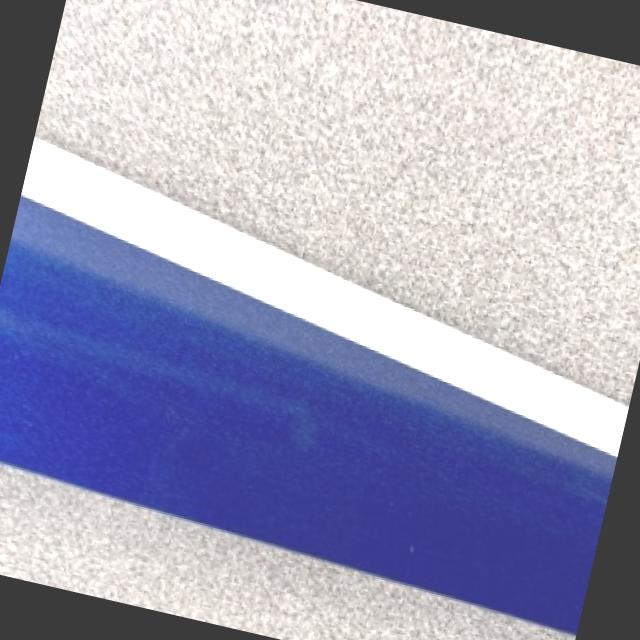healthy: (0, 136, 629, 629)
